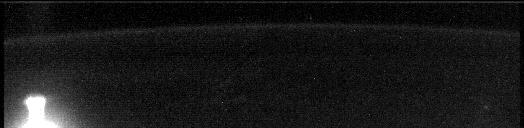positive: (21, 93, 49, 122)
